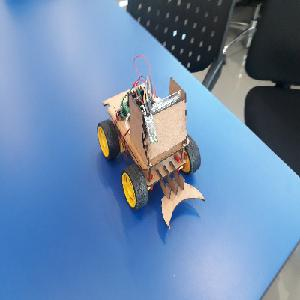Robot: (97, 75, 206, 230)
